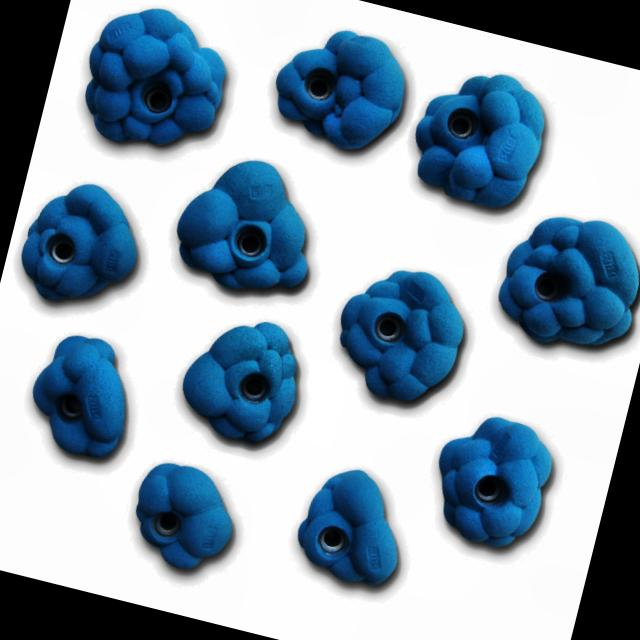Hold: (71, 0, 248, 168), (170, 145, 334, 310), (318, 254, 481, 416), (486, 200, 640, 364), (262, 18, 424, 167), (406, 58, 550, 215), (168, 303, 316, 452), (9, 169, 158, 317), (424, 404, 562, 556), (282, 455, 419, 599), (117, 458, 253, 586), (19, 328, 144, 466)
